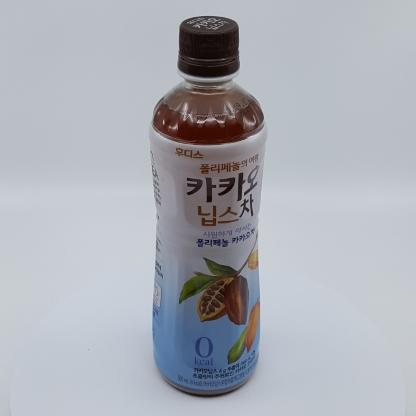------500ML: (149, 16, 268, 395)
